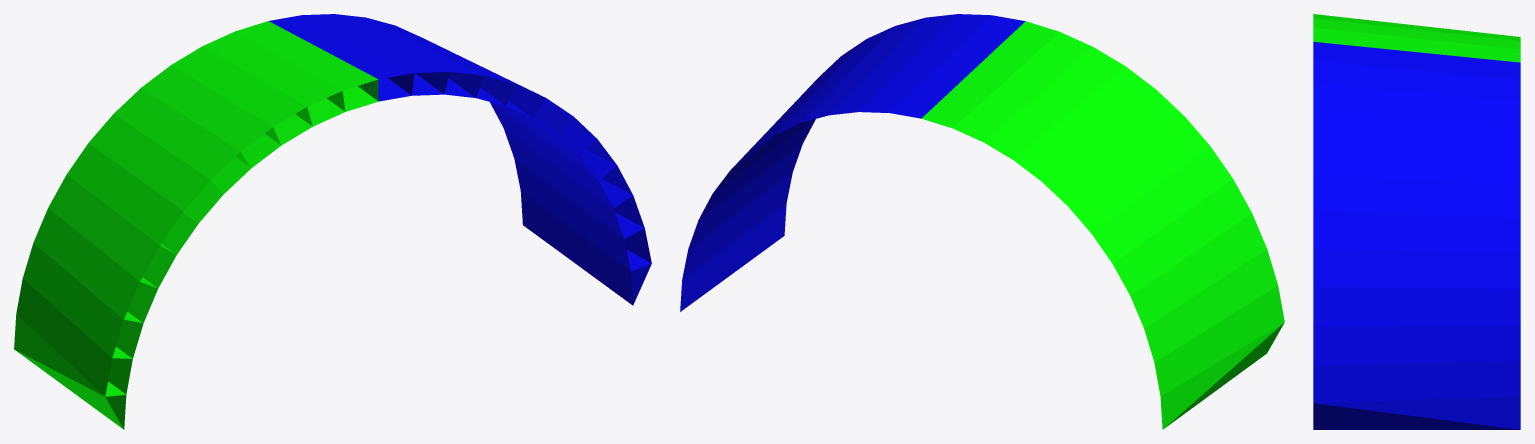
File: skpfile.dae
3 views of the same model, side by side, from view 1: azimuth 30°, elevation 25°; view 2: azimuth 150°, elevation 25°; view 3: azimuth 270°, elevation 25° (orthographic). The views are drawn at different scales.
Visible parts, largest first — view 1: Model; view 2: Model; view 3: Model.
Part boxes in pixels (box(x1,y1,x2,y2)): Model: box(14, 14, 651, 429); Model: box(680, 14, 1284, 429); Model: box(1313, 14, 1520, 429).
Bounding box in the file's own units: 103 × 36 × 52.
